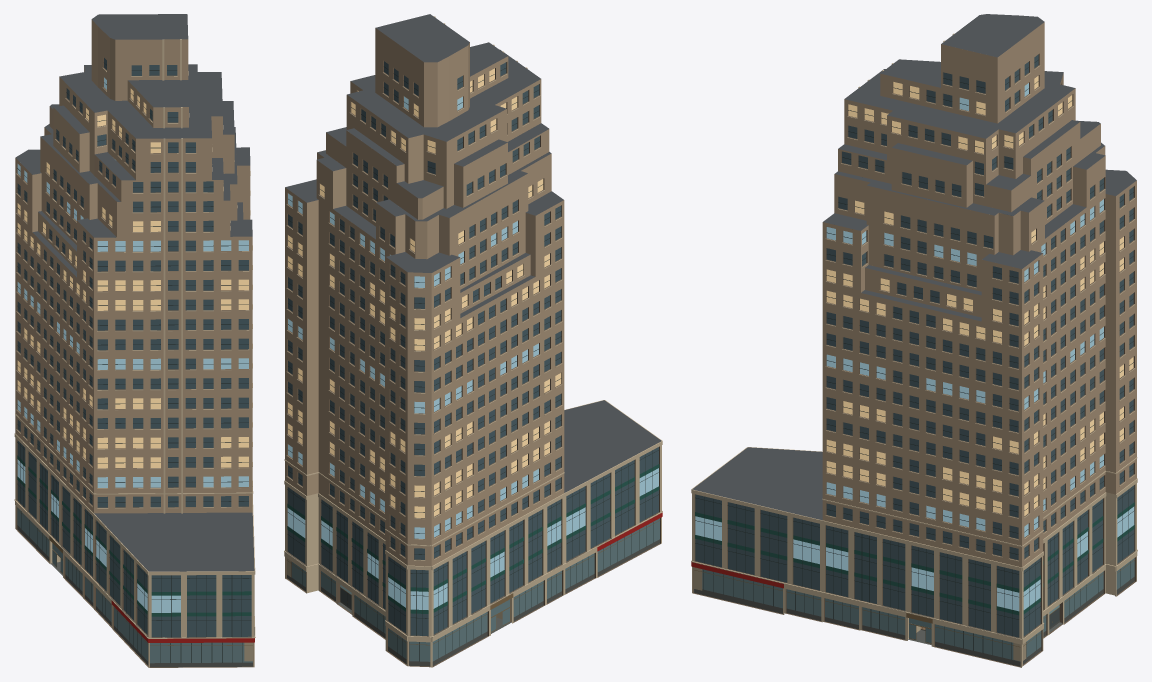
Rendered from 1350-broadway.glb.
3 renders of one model, left to right at view 1: azimuth 30°, elevation 25°; view 2: azimuth 150°, elevation 25°; view 3: azimuth 270°, elevation 25°, orthographic. The views are drawn at different scales.
Parts seen in each view (by area): view 1: HeraldExterior; view 2: HeraldExterior; view 3: HeraldExterior.
Part boxes in pixels (x1,y1,x2,y2): HeraldExterior: (14, 14, 255, 667); HeraldExterior: (284, 14, 662, 667); HeraldExterior: (691, 14, 1137, 667).
Size of the model in its own units: 45.52 by 101 by 70.98.
